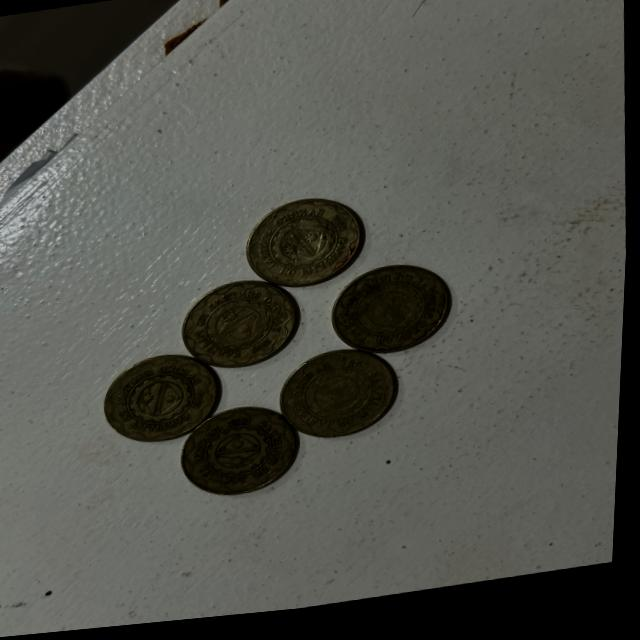5_Old_Back: (241, 193, 377, 305), (177, 403, 302, 507), (178, 279, 307, 379), (101, 350, 226, 452), (330, 270, 453, 371), (287, 355, 396, 455)
